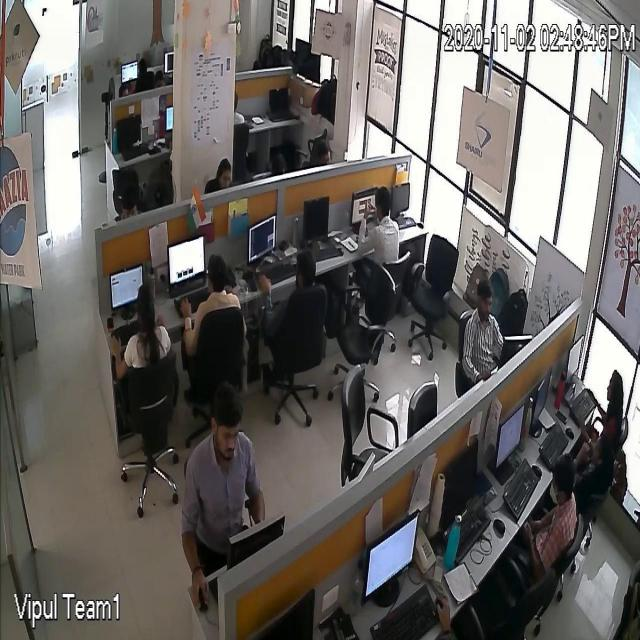chair: (113, 358, 184, 516), (269, 290, 329, 440), (480, 543, 556, 640), (187, 308, 247, 430), (411, 223, 458, 368), (340, 361, 400, 474), (338, 262, 392, 387), (541, 513, 593, 609), (407, 363, 441, 441), (458, 299, 472, 400), (293, 123, 315, 169), (616, 415, 630, 457)
keyboard: (366, 588, 436, 640), (442, 501, 492, 564), (502, 457, 540, 523), (538, 418, 570, 473), (569, 380, 595, 431), (259, 258, 299, 284), (172, 289, 208, 315), (111, 314, 139, 344), (311, 240, 345, 264), (392, 209, 418, 234), (119, 139, 149, 160), (270, 108, 298, 121)
monitor: (363, 508, 419, 598), (227, 507, 287, 560), (444, 436, 478, 526), (258, 588, 316, 640), (168, 238, 206, 300), (494, 399, 526, 468), (107, 260, 145, 306), (246, 212, 277, 268), (348, 183, 382, 226), (302, 194, 330, 241), (503, 324, 533, 366), (534, 363, 552, 432), (566, 331, 584, 392), (116, 119, 143, 152), (391, 177, 412, 214), (271, 82, 293, 114), (120, 58, 140, 90), (164, 101, 174, 136), (166, 47, 176, 79)
person: (182, 382, 266, 606), (102, 279, 172, 383), (173, 250, 247, 346), (526, 454, 579, 584), (254, 246, 323, 330), (458, 273, 506, 388), (356, 185, 402, 261), (580, 422, 609, 518), (602, 357, 624, 450), (436, 581, 454, 640), (118, 180, 142, 218), (211, 160, 235, 191), (134, 60, 154, 86), (316, 140, 334, 166), (232, 94, 245, 125)
